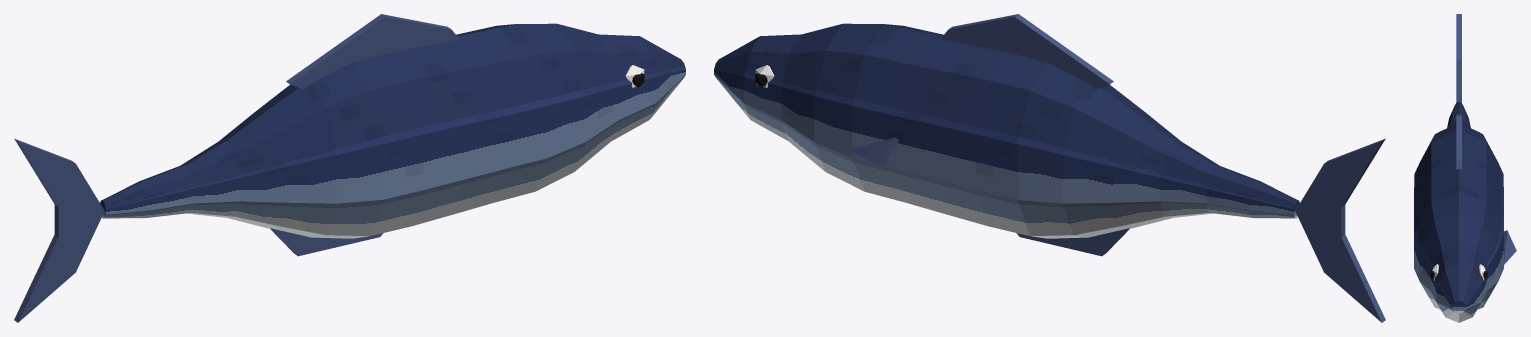
The model's file is longtail_tuna.glb.
3 renders of one model, left to right at view 1: azimuth 30°, elevation 25°; view 2: azimuth 150°, elevation 25°; view 3: azimuth 270°, elevation 25°, orthographic. The views are drawn at different scales.
Parts seen in each view (by area): view 1: fish_longtail_tuna; view 2: fish_longtail_tuna; view 3: fish_longtail_tuna.
Part boxes in pixels (left/top/right/bottom): fish_longtail_tuna: left=14, top=14, right=685, bottom=322; fish_longtail_tuna: left=714, top=14, right=1385, bottom=322; fish_longtail_tuna: left=1414, top=14, right=1516, bottom=322.
Size of the model in its own units: 1.15 by 0.3617 by 0.2178.
Materials: 4 (1 with a texture image).
